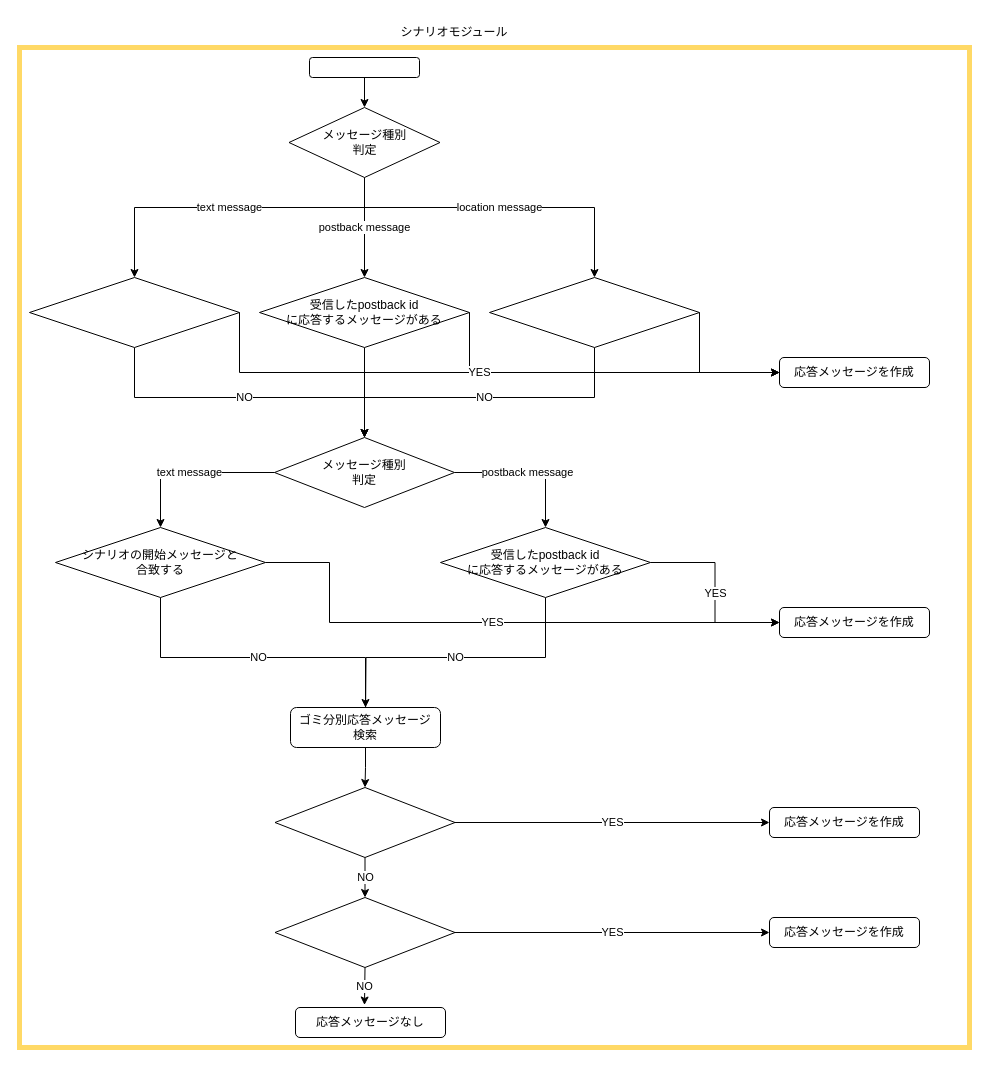
This 989x1067 diagram has some shape labels left out. The centre of each missing label's shape, as x and y in pixels:
Payload: [364,67]
デフォルト応答メッセージ 設定あり: [364,932]
ユーザーの最後のメッセージが 位置情報検索だった: [594,312]
該当するゴミデータあり: [364,822]
防災トークの開始メッセージ と合致: [134,312]
